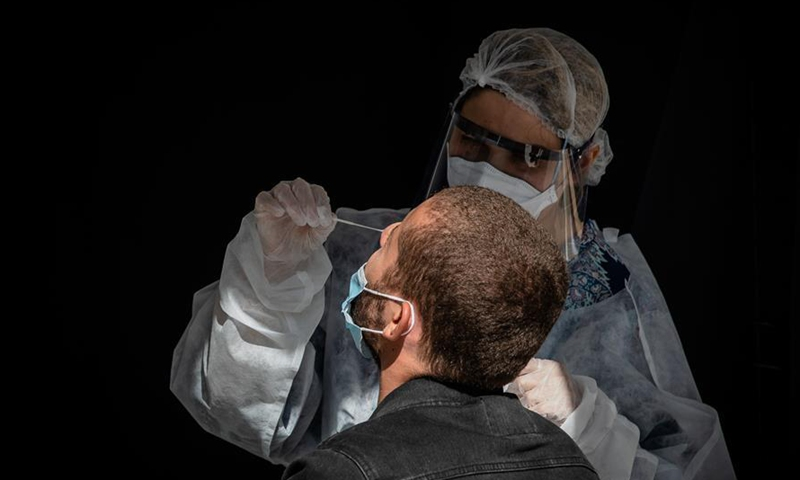Face_Shield: (427, 111, 573, 244)
Gloves: (252, 163, 341, 297), (511, 357, 593, 431)
mask_weared_incorrect: (342, 199, 438, 380)
with_mask: (445, 138, 553, 210)
